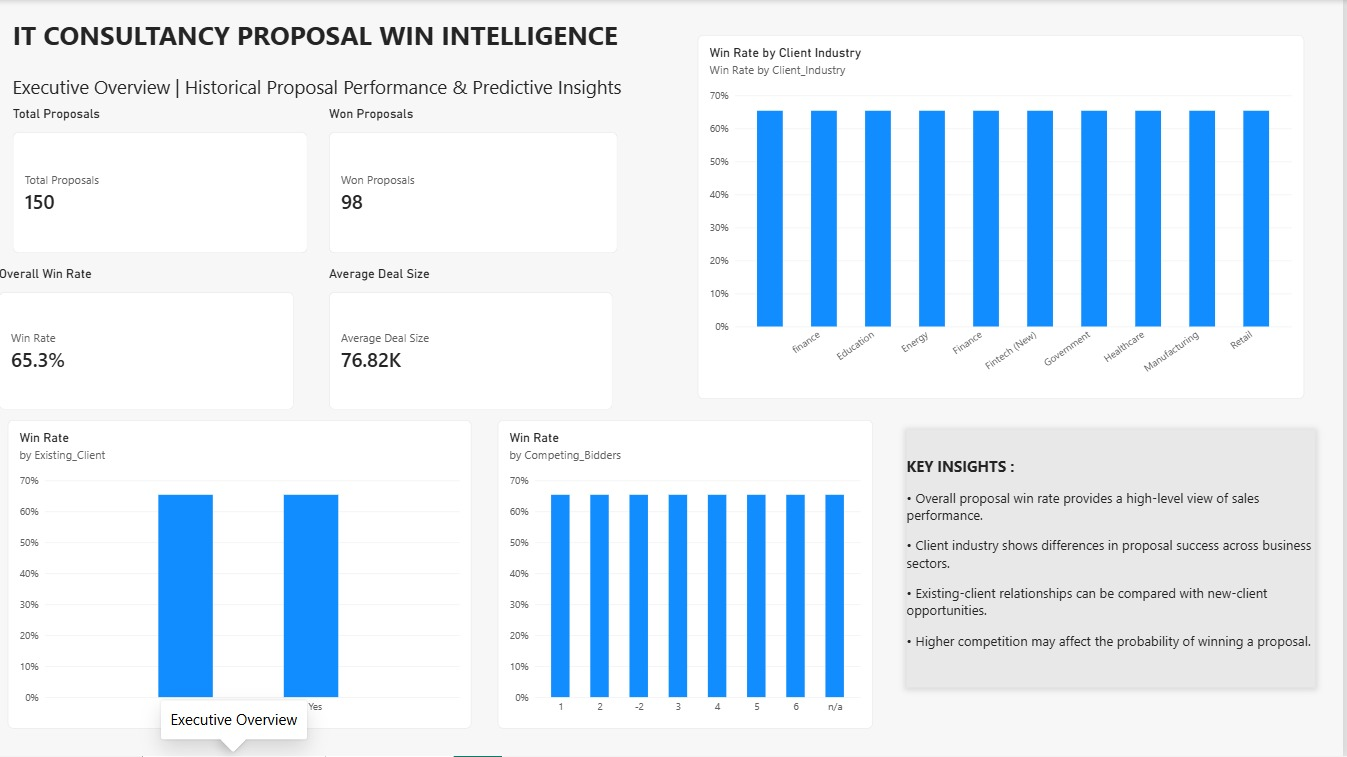

The dashboard page shown, as its layout file describes it:
{"tool":"powerbi","page":{"name":"Executive Overview","canvas":[1920,1080],"ordinal":0},"visuals":[{"type":"textbox","box":[19.6,25,941.1,80.4],"z":0},{"type":"textbox","box":[0,105.4,1028.6,53.6],"z":1000},{"type":"cardVisual","title":"Total Proposals","fields":{"Data":["Proposal_Data.Total Proposals"]},"box":[19.6,151.8,421.4,210.7],"z":2000},{"type":"cardVisual","title":"Won Proposals","fields":{"Data":["Proposal_Data.Won Proposals"]},"box":[471.4,151.8,412.5,210.7],"z":3000},{"type":"cardVisual","title":"Overall Win Rate","fields":{"Data":["Proposal_Data.Win Rate"]},"box":[0,380.4,421.4,205.4],"z":4000},{"type":"cardVisual","title":"Average Deal Size","fields":{"Data":["Proposal_Data.Average Deal Size"]},"box":[471.4,380.4,405.4,205.4],"z":5000},{"type":"clusteredColumnChart","title":"Win Rate by Client Industry","fields":{"Category":["Proposal_Data.Client_Industry"],"Y":["Proposal_Data.Win Rate"]},"box":[998.2,50,866.1,519.6],"z":6000},{"type":"clusteredColumnChart","fields":{"Category":["Proposal_Data.Existing_Client"],"Y":["Proposal_Data.Win Rate"]},"box":[12.5,600,662.5,441.1],"z":7000},{"type":"clusteredColumnChart","fields":{"Category":["Proposal_Data.Competing_Bidders"],"Y":["Proposal_Data.Win Rate"]},"box":[712.5,600,535.7,441.1],"z":8003},{"type":"textbox","box":[1296.4,614.3,583.9,367.9],"z":8004}]}

Visuals, with their boxes on the page's 1920x1080 design canvas (x1, y1, x2, y2). These are canvas units, not pixel positions in the 1347x757 screenshot, which may show the page scaled, cropped or inside an application window:
textbox: select_region(20, 25, 961, 105)
textbox: select_region(0, 105, 1029, 159)
"Total Proposals" cardVisual: select_region(20, 152, 441, 362)
"Won Proposals" cardVisual: select_region(471, 152, 884, 362)
"Overall Win Rate" cardVisual: select_region(0, 380, 421, 586)
"Average Deal Size" cardVisual: select_region(471, 380, 877, 586)
"Win Rate by Client Industry" clusteredColumnChart: select_region(998, 50, 1864, 570)
clusteredColumnChart - Proposal_Data.Existing_Client x Proposal_Data.Win Rate: select_region(12, 600, 675, 1041)
clusteredColumnChart - Proposal_Data.Competing_Bidders x Proposal_Data.Win Rate: select_region(712, 600, 1248, 1041)
textbox: select_region(1296, 614, 1880, 982)
